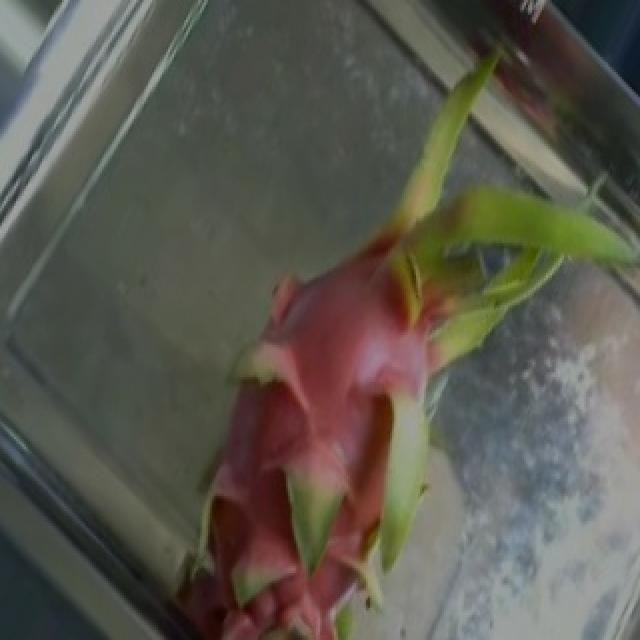fruit: (224, 3, 640, 424), (80, 240, 498, 640)
